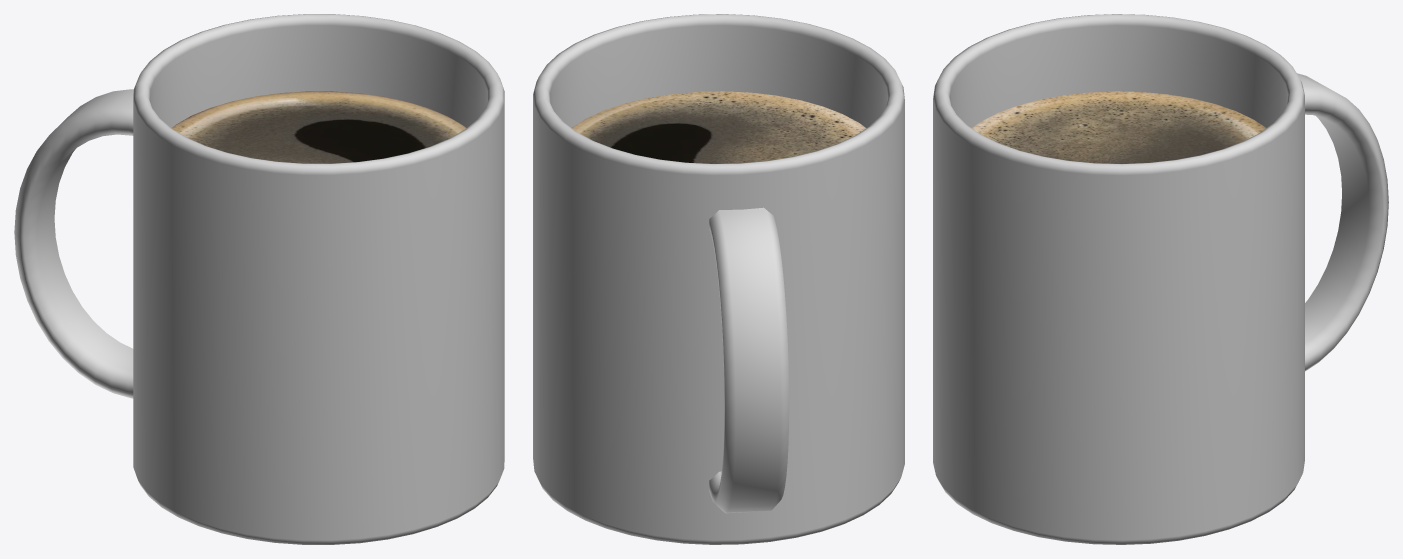
Rendered from coffee_mug.glb.
The picture shows the model from 3 angles, left to right: view 1: azimuth 30°, elevation 25°; view 2: azimuth 150°, elevation 25°; view 3: azimuth 270°, elevation 25°; orthographic projection.
Visible parts, largest first — view 1: Mug1_Mug_0, Mug1_Coffee_0; view 2: Mug1_Mug_0, Mug1_Coffee_0; view 3: Mug1_Mug_0, Mug1_Coffee_0.
Part boxes in pixels (<box>): Mug1_Mug_0: <box>14,14,504,544</box>; Mug1_Coffee_0: <box>171,91,466,163</box>; Mug1_Mug_0: <box>533,14,904,544</box>; Mug1_Coffee_0: <box>572,91,866,163</box>; Mug1_Mug_0: <box>933,14,1388,544</box>; Mug1_Coffee_0: <box>972,91,1265,163</box>.
Bounding box in the file's own units: 2.78 × 2.93 × 3.17.
2 materials, 1 textured.
